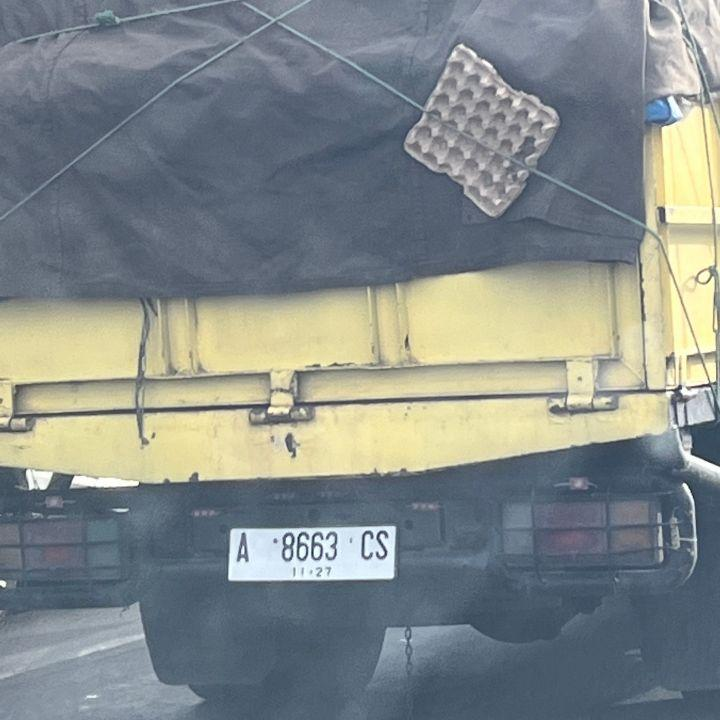plat: (228, 526, 397, 582)
